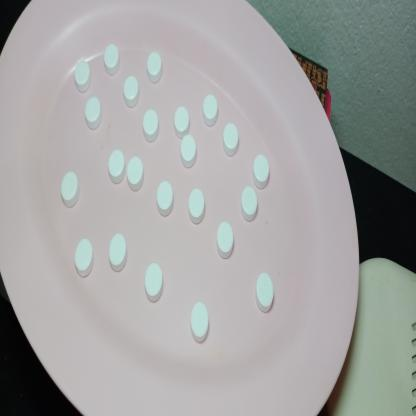Paracetamol: (74, 235, 96, 280), (104, 144, 128, 185), (254, 271, 276, 315), (189, 300, 211, 344), (108, 231, 131, 273), (143, 260, 165, 303), (215, 221, 236, 262), (125, 155, 147, 194), (156, 176, 177, 216), (145, 51, 167, 89), (101, 41, 122, 80), (170, 102, 191, 140), (252, 154, 272, 193), (186, 186, 206, 224), (178, 134, 199, 170), (142, 106, 161, 144), (61, 168, 80, 206), (84, 97, 103, 134), (74, 53, 92, 92), (122, 72, 141, 108), (240, 187, 259, 221), (223, 124, 241, 157), (203, 92, 219, 127)
